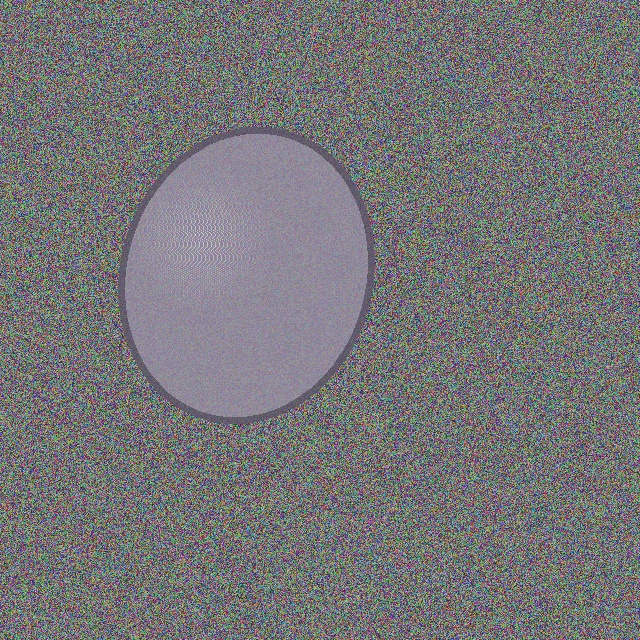lens: (121, 130, 371, 420)
